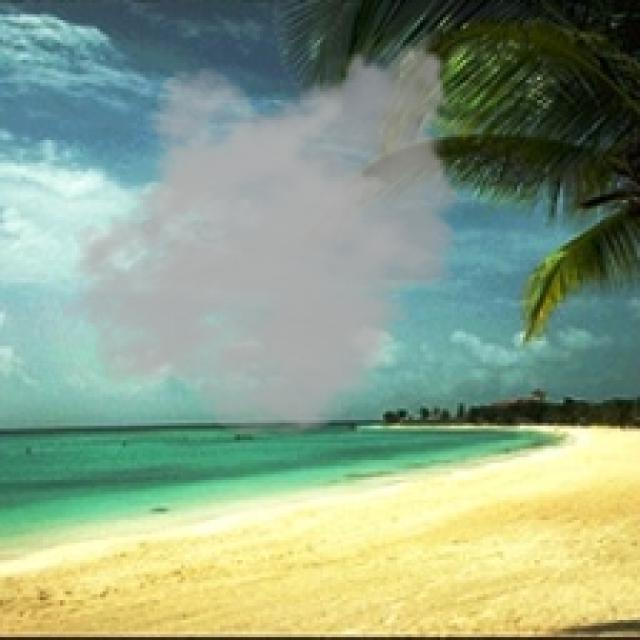smoke: (57, 26, 472, 437)
